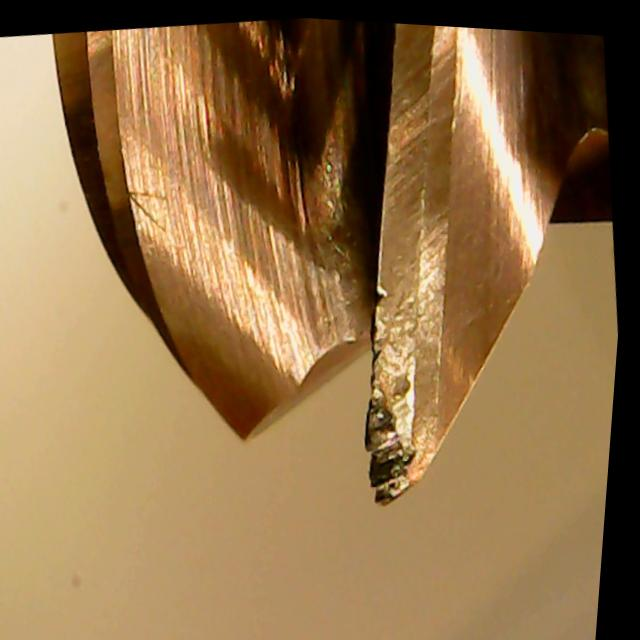Tool-wear-class-1: (321, 220, 497, 515)
